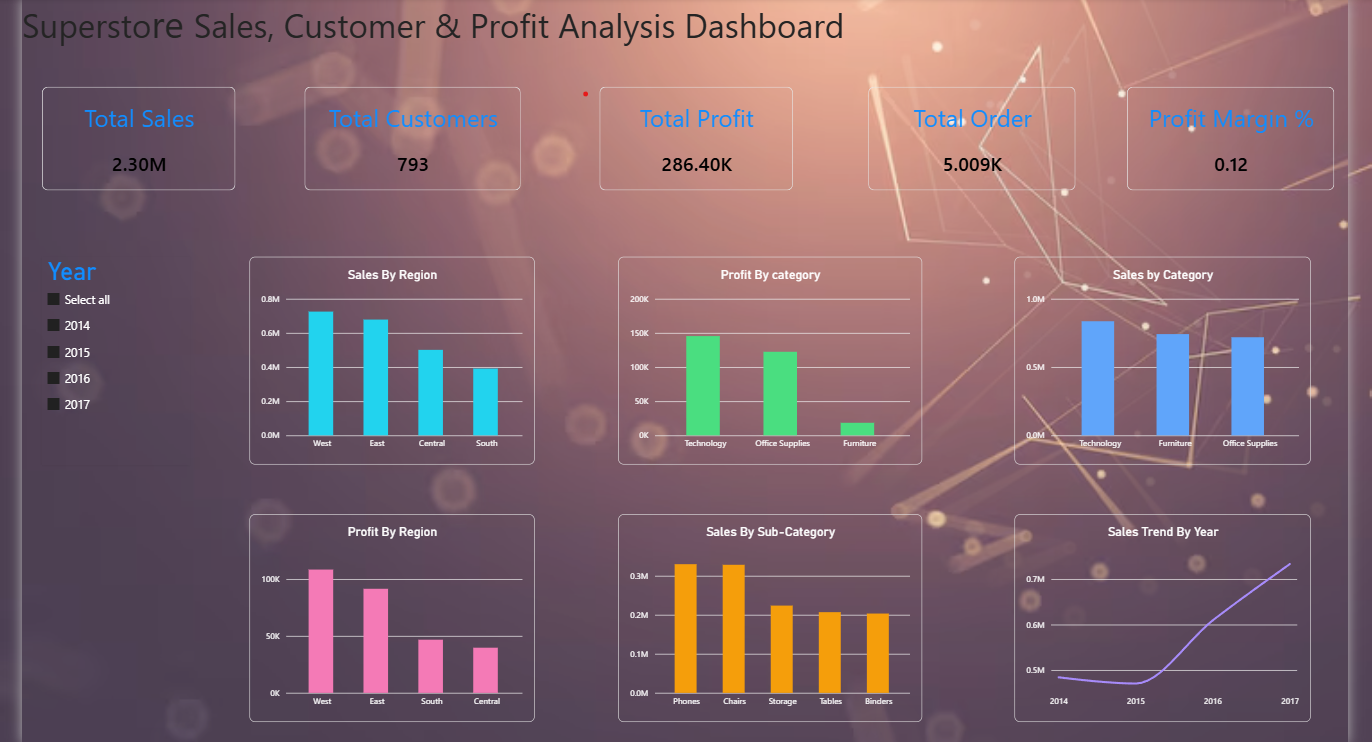

What the dashboard file says about the page in this screenshot:
{"tool":"powerbi","page":{"name":"Page 1","canvas":[1920,1080],"ordinal":0},"visuals":[{"type":"cardVisual","fields":{"Data":["Sum(Superstore_PowerBI.Sales)"]},"box":[1210.7,410.8,280.5,150.2],"z":0},{"type":"cardVisual","fields":{"Data":["Sum(Superstore_PowerBI.Profit)"]},"box":[1210.7,591.8,280.5,119.4],"z":1000},{"type":"cardVisual","fields":{"Data":["Count(Superstore_PowerBI.Order ID)"]},"box":[1559.9,591.8,300.4,119.4],"z":2000},{"type":"cardVisual","fields":{"Data":["Count(Superstore_PowerBI.Customer ID)"]},"box":[1538.2,410.8,300.4,150.2],"z":3000},{"type":"clusteredColumnChart","fields":{"Category":["Superstore_PowerBI.Category"],"Y":["Sum(Superstore_PowerBI.Sales)"]},"box":[1619.6,747.4,300,300],"z":4000},{"type":"lineChart","fields":{"Category":["Superstore_PowerBI.Order Date.Variation.Date Hierarchy.Year"],"Y":["Sum(Superstore_PowerBI.Sales)"]},"box":[1237.8,747.4,300,300],"z":5000},{"type":"clusteredColumnChart","fields":{"Category":["Superstore_PowerBI.Category"],"Y":["Sum(Superstore_PowerBI.Profit)"]},"box":[863.2,410.8,300,300],"z":6000},{"type":"clusteredColumnChart","title":"Total Sales","fields":{"Category":["Superstore_PowerBI.Region"],"Y":["Sum(Superstore_PowerBI.Sales)"]},"box":[492.2,410.8,300,300],"z":7000},{"type":"clusteredColumnChart","title":"Sub-Categories by Sales","fields":{"Category":["Superstore_PowerBI.Sub-Category"],"Y":["Sum(Superstore_PowerBI.Sales)"]},"box":[863.2,765.5,300,300],"z":8000},{"type":"clusteredColumnChart","title":"Profit By Region","fields":{"Category":["Superstore_PowerBI.Region"],"Y":["Sum(Superstore_PowerBI.Profit)"]},"box":[492.2,747.4,300,300],"z":9000},{"type":"cardVisual","fields":{"Data":["Superstore_PowerBI.Profit Margin %"]},"box":[63.3,765.5,300.5,222.3],"z":10000},{"type":"slicer","fields":{"Values":["Superstore_PowerBI.Order Date.Variation.Date Hierarchy.Year"]},"box":[63.3,410.8,321.1,150.3],"z":11000},{"type":"textbox","box":[63.3,65.1,1210.7,108.6],"z":11001}]}

Visuals, with their boxes on the page's 1920x1080 design canvas (x1, y1, x2, y2). These are canvas units, not pixel positions in the 1372x742 screenshot, which may show the page scaled, cropped or inside an application window:
cardVisual - Sum(Superstore_PowerBI.Sales): 1211:411:1491:561
cardVisual - Sum(Superstore_PowerBI.Profit): 1211:592:1491:711
cardVisual - Count(Superstore_PowerBI.Order ID): 1560:592:1860:711
cardVisual - Count(Superstore_PowerBI.Customer ID): 1538:411:1839:561
clusteredColumnChart - Superstore_PowerBI.Category x Sum(Superstore_PowerBI.Sales): 1620:747:1920:1047
lineChart - Superstore_PowerBI.Order Date.Variation.Date Hierarchy.Year x Sum(Superstore_PowerBI.Sales): 1238:747:1538:1047
clusteredColumnChart - Superstore_PowerBI.Category x Sum(Superstore_PowerBI.Profit): 863:411:1163:711
"Total Sales" clusteredColumnChart: 492:411:792:711
"Sub-Categories by Sales" clusteredColumnChart: 863:766:1163:1066
"Profit By Region" clusteredColumnChart: 492:747:792:1047
cardVisual - Superstore_PowerBI.Profit Margin %: 63:766:364:988
slicer - Superstore_PowerBI.Order Date.Variation.Date Hierarchy.Year: 63:411:384:561
textbox: 63:65:1274:174
